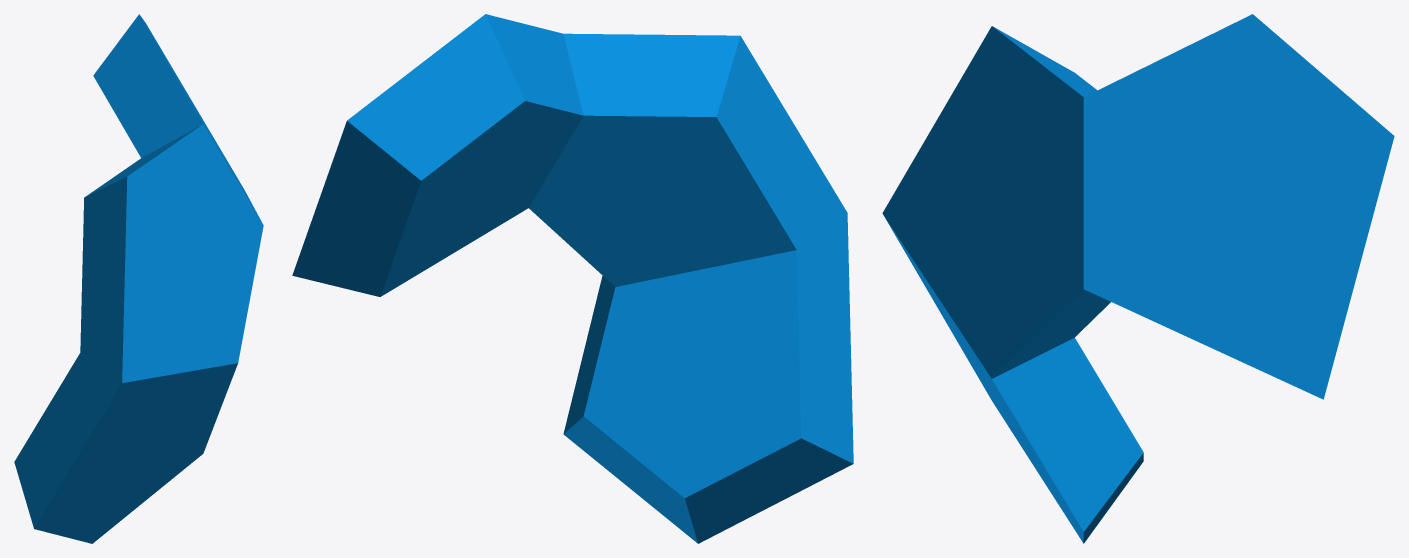
The model's file is piece3.glb.
3 renders of one model, left to right at view 1: azimuth 30°, elevation 25°; view 2: azimuth 150°, elevation 25°; view 3: azimuth 270°, elevation 25°, orthographic. The views are drawn at different scales.
Visible parts, largest first — view 1: piece_A_3; view 2: piece_A_3; view 3: piece_A_3.
Part boxes in pixels (left/top/right/bottom): piece_A_3: left=14, top=14, right=263, bottom=543; piece_A_3: left=292, top=14, right=853, bottom=543; piece_A_3: left=882, top=14, right=1394, bottom=543.
Size of the model in its own units: 2.66 by 3.45 by 2.66.
